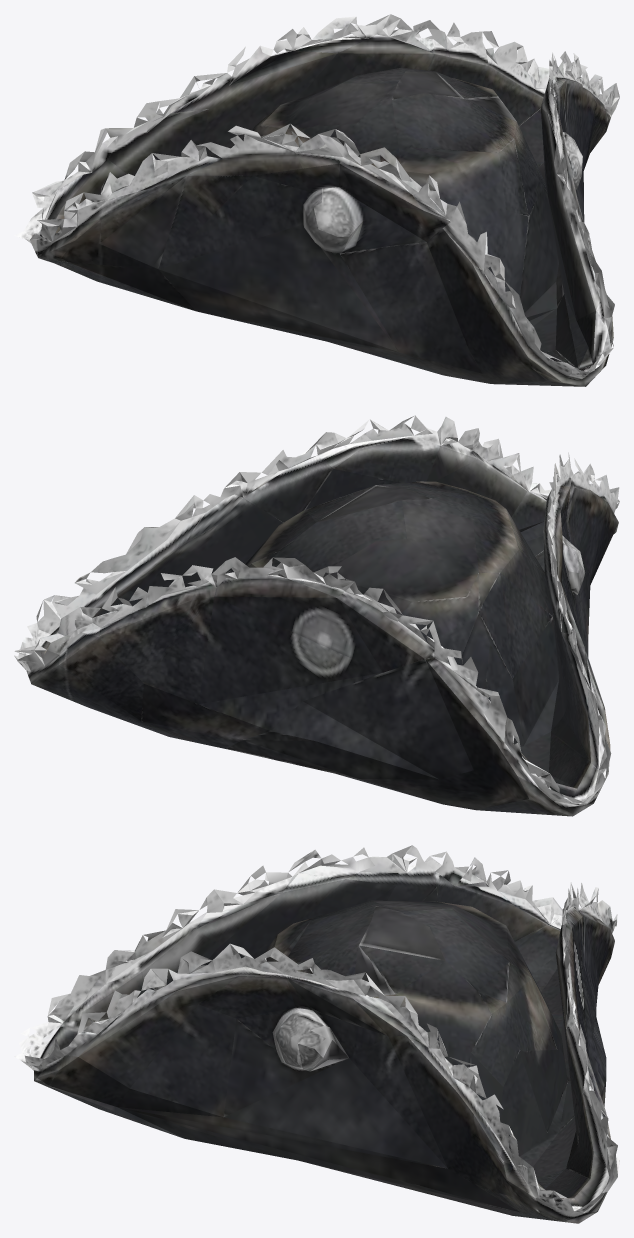
File: merletto-testa.glb
3 renders of one model, top to bottom at view 1: azimuth 30°, elevation 25°; view 2: azimuth 150°, elevation 25°; view 3: azimuth 270°, elevation 25°, orthographic. The views are drawn at different scales.
Visible parts, largest first — view 1: Mesh_0; view 2: Mesh_0; view 3: Mesh_0.
Boxes of the visible parts, bbox=[...] form: Mesh_0: bbox=[14, 14, 619, 386]; Mesh_0: bbox=[14, 415, 619, 816]; Mesh_0: bbox=[14, 845, 619, 1223].
Bounding box in the file's own units: 1.9 × 0.6993 × 1.74.
Materials: 1 (1 with a texture image).
